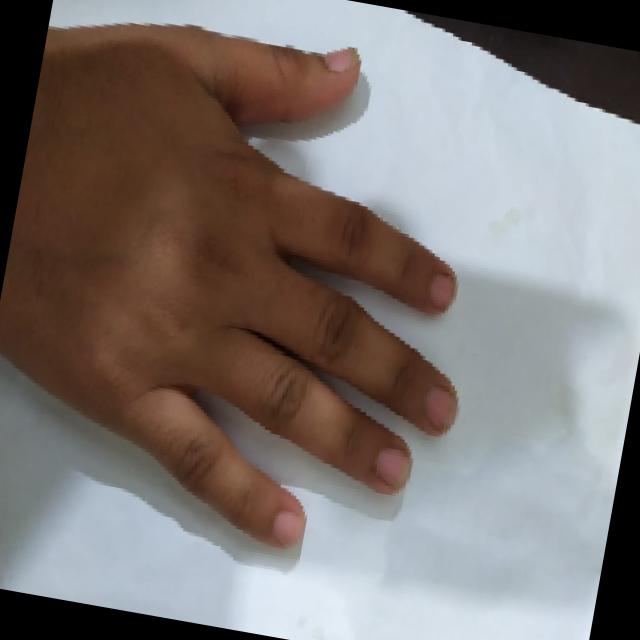Nail: (424, 386, 455, 428), (374, 448, 408, 483), (271, 511, 302, 547), (322, 48, 358, 72), (429, 274, 452, 308)
